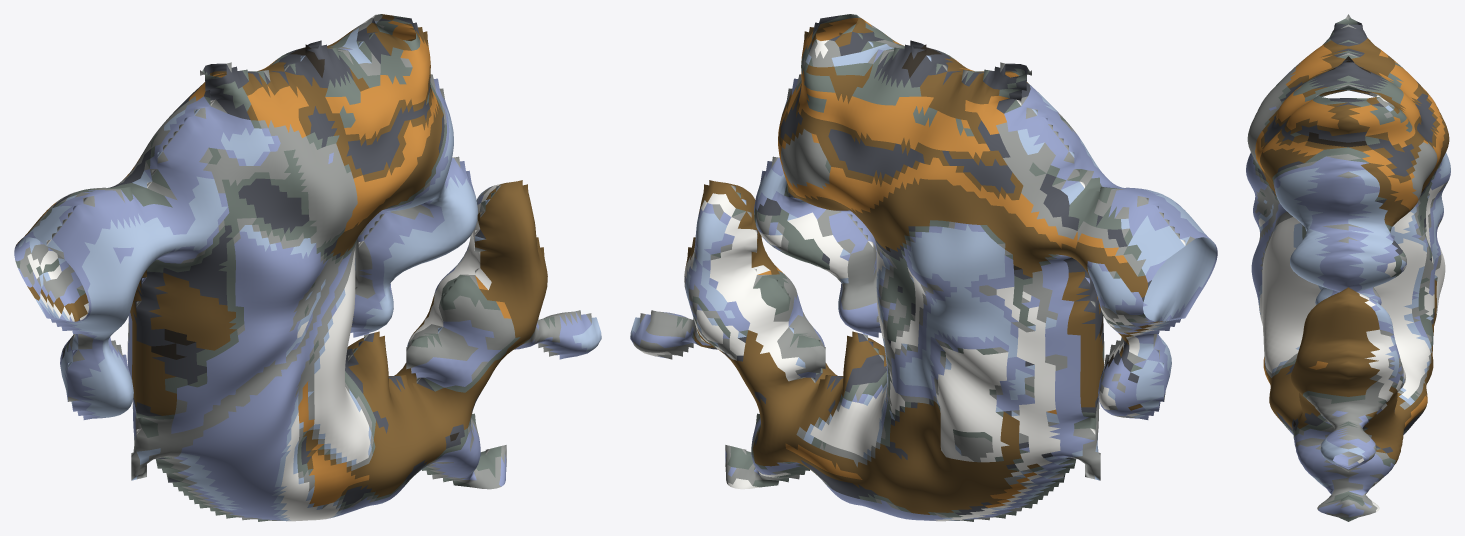
Rendered from odamryul.glb.
3 views of the same model, side by side, from view 1: azimuth 30°, elevation 25°; view 2: azimuth 150°, elevation 25°; view 3: azimuth 270°, elevation 25° (orthographic). The views are drawn at different scales.
Visible parts, largest first — view 1: odamryul; view 2: odamryul; view 3: odamryul.
Boxes of the visible parts, left/top/right/bottom form: odamryul: left=14, top=14, right=601, bottom=521; odamryul: left=630, top=14, right=1217, bottom=521; odamryul: left=1246, top=14, right=1450, bottom=521.
Bounding box in the file's own units: 855 × 709 × 339.
